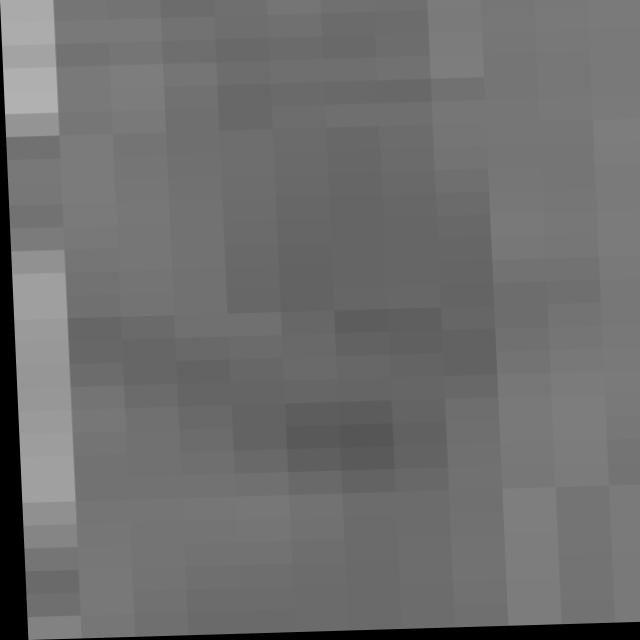fracture: (1, 0, 640, 640)
